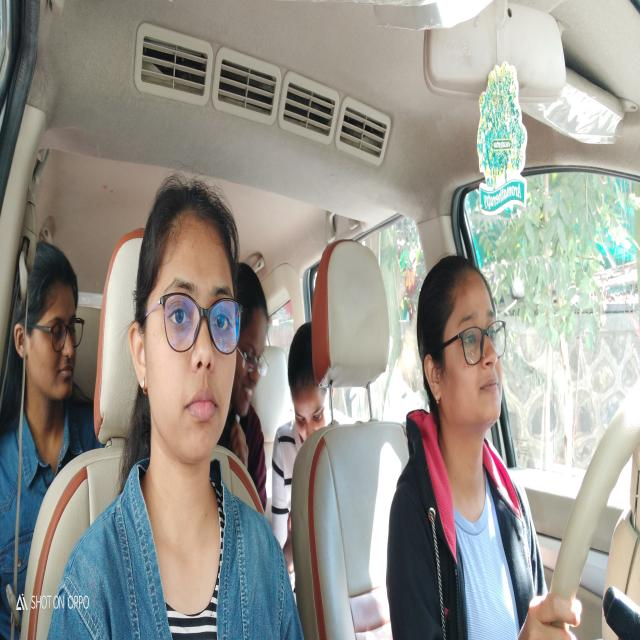person: (132, 175, 244, 470), (418, 243, 510, 436), (25, 246, 88, 430), (235, 232, 271, 426), (284, 333, 336, 442)
